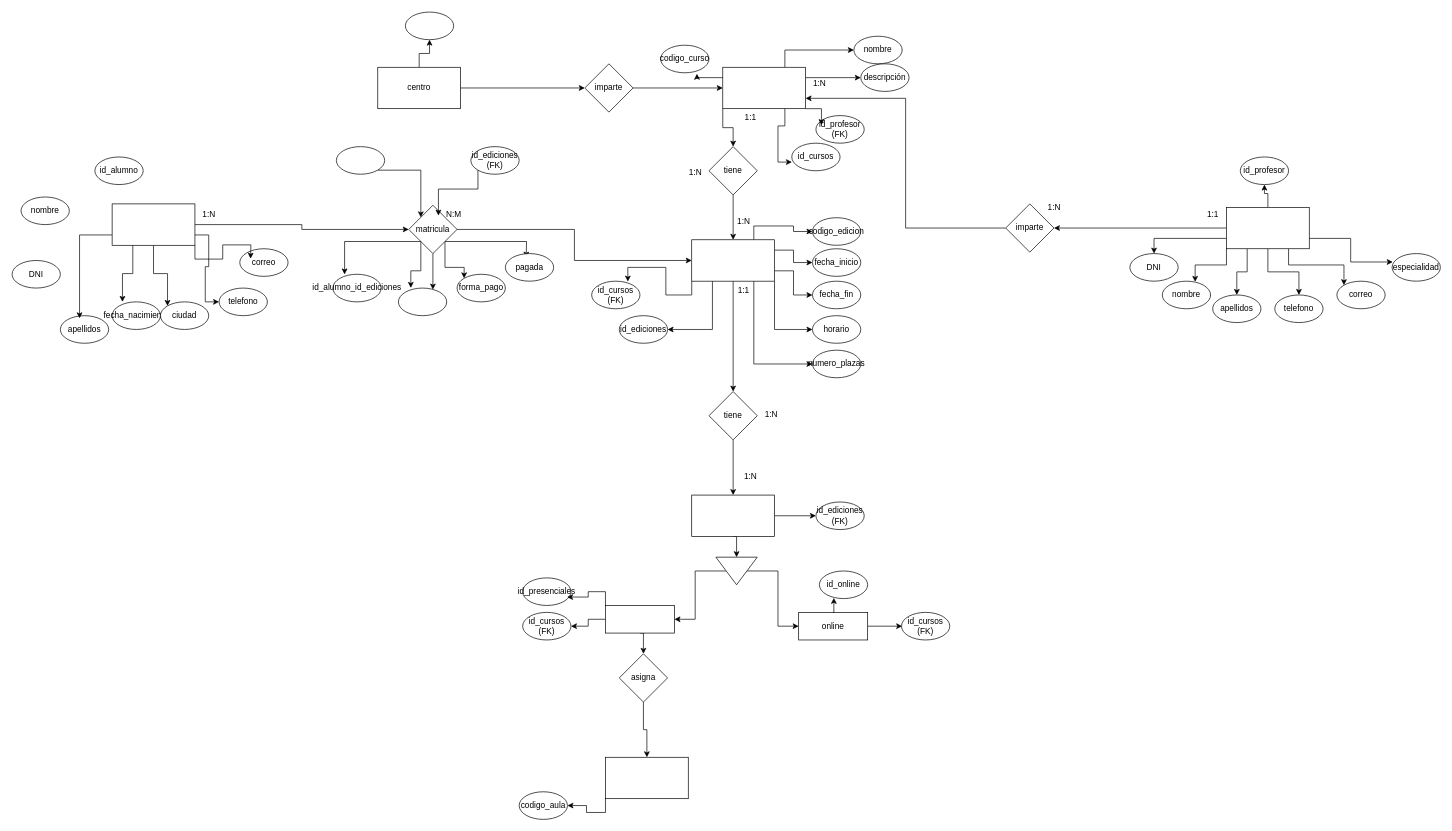
Some shapes in this 1452 by 831 pixel diagram are drawn without their labels. The shapes that lost their labels are listed below. From the top down, each one's centre as x and y in pixels, then its label:
At (429,25): "id_centro".
At (764,88): "cursos".
At (360,160): "id_alumno (FK)".
At (153,224): "alumno".
At (1267,228): "profesor".
At (733,260): "ediciones".
At (422,301): "fecha".
At (733,515): "modalidad".
At (736,570): "tipo".
At (639,619): "presenciales".
At (646,778): "aula física".
